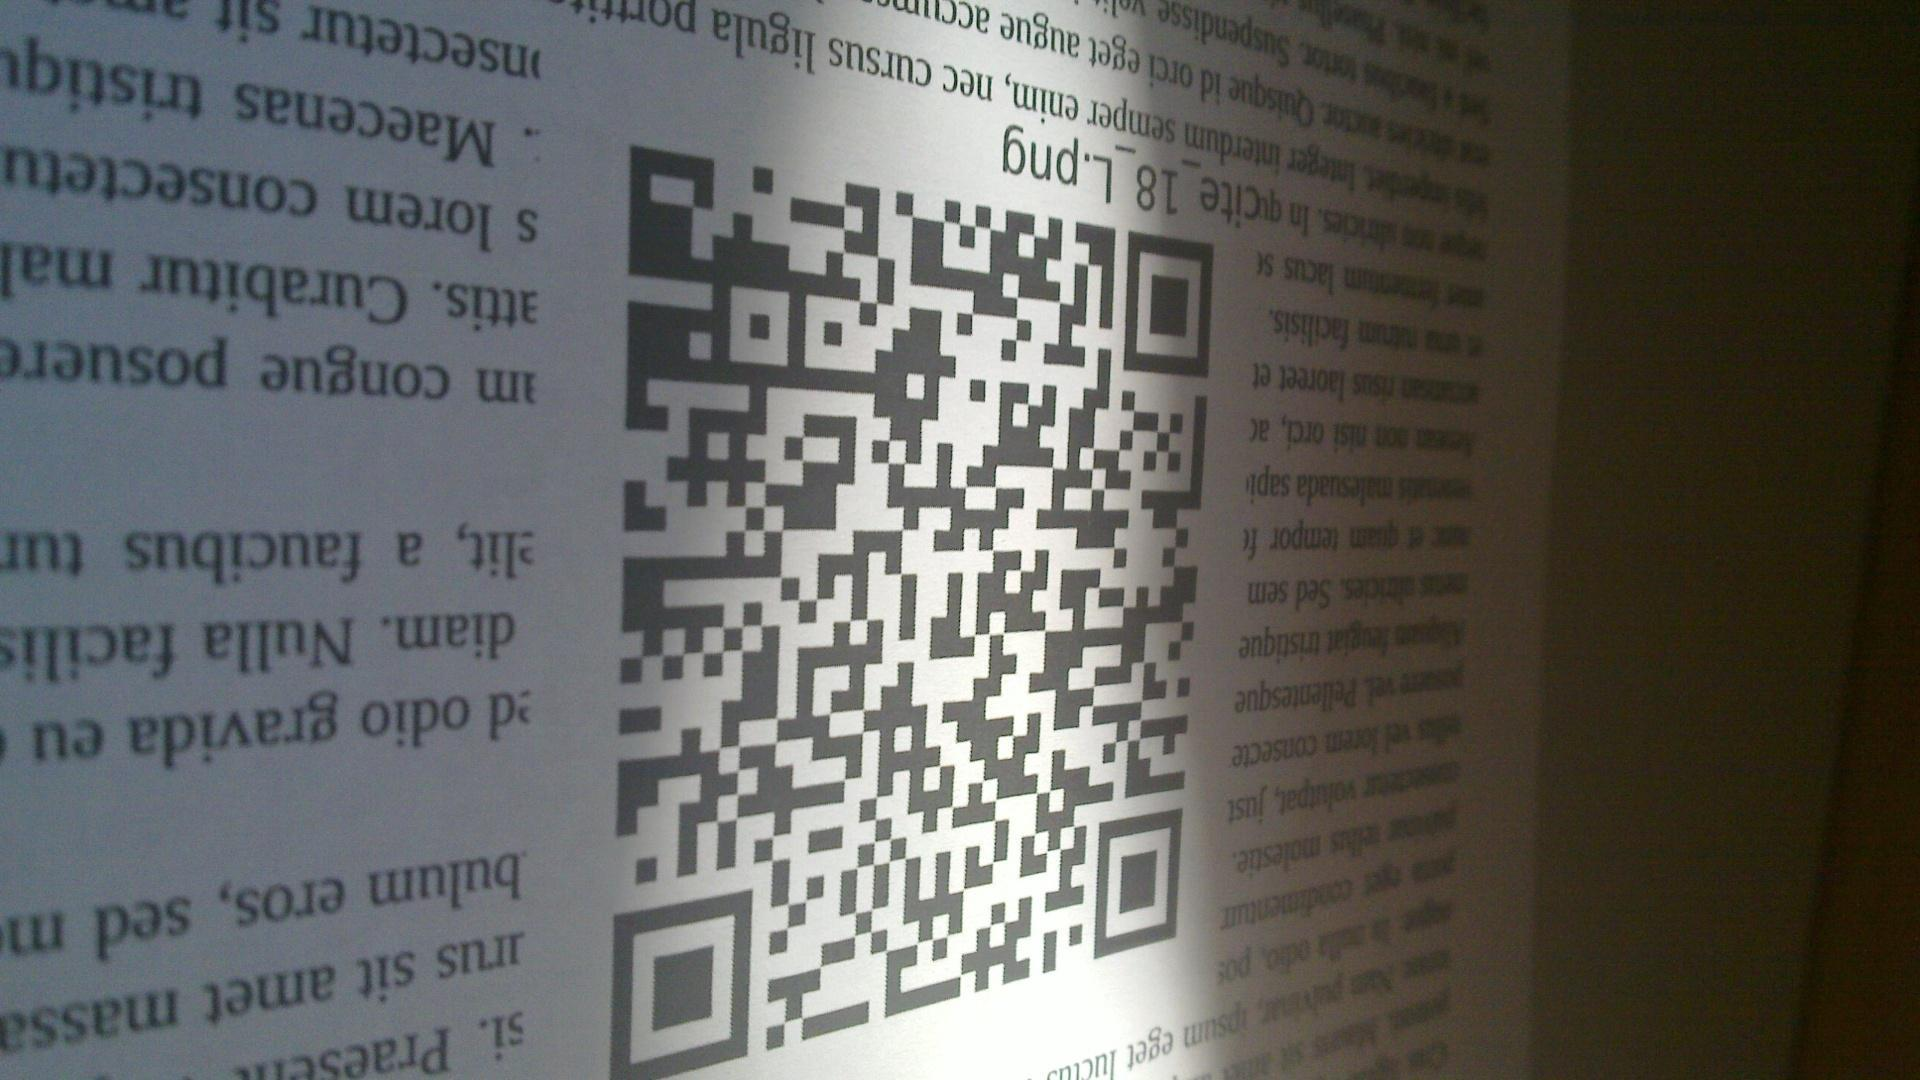Finder pattern: (593, 881, 756, 1079), (1122, 222, 1218, 382), (1095, 804, 1182, 959)
